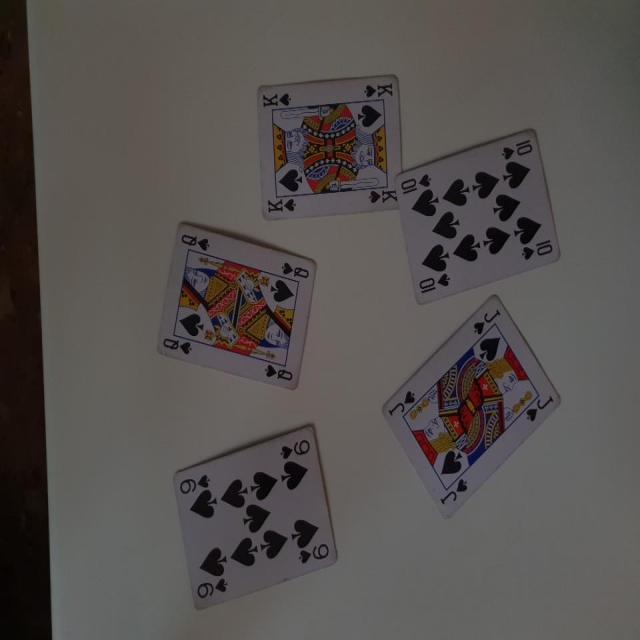10 Spades: (391, 114, 563, 314)
9 Spades: (157, 413, 344, 618)
J Spades: (373, 287, 564, 528)
K Spades: (250, 65, 405, 226)
Q Spades: (152, 215, 318, 396)
